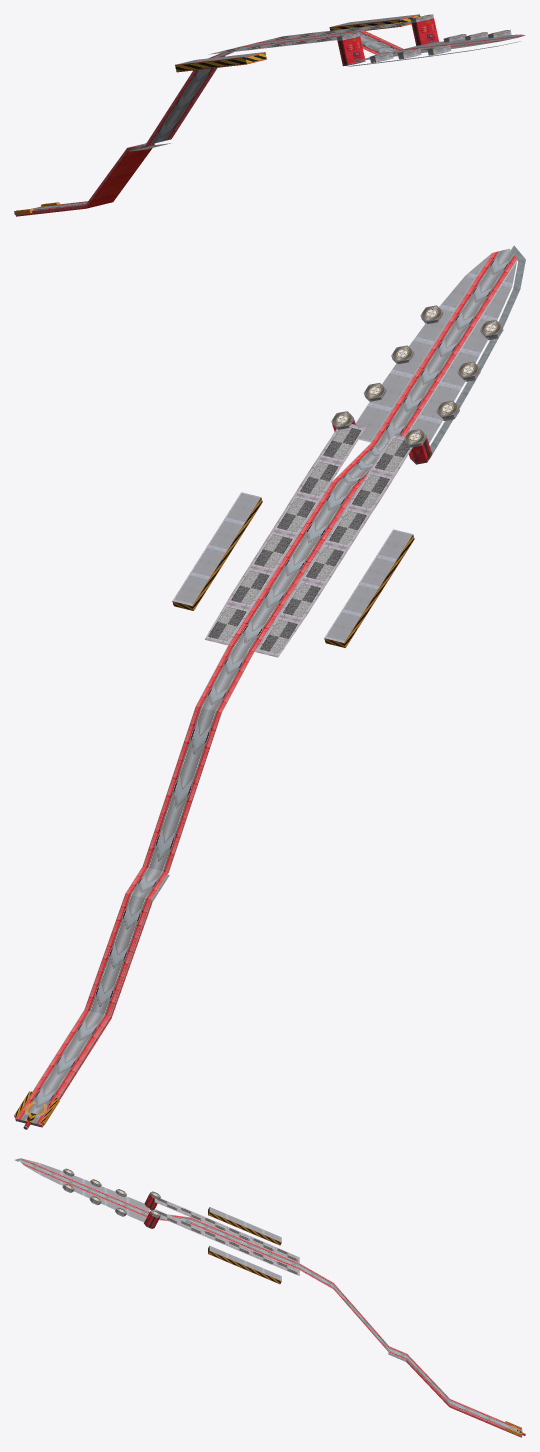
The model's file is S13_ONS_22.OBJ.
3 views of the same model, one above another, from view 1: azimuth 30°, elevation 25°; view 2: azimuth 150°, elevation 25°; view 3: azimuth 270°, elevation 25° (orthographic). The views are drawn at different scales.
Parts seen in each view (by area): view 1: s13_ons_22_5, s13_ons_22_0, s13_ons_22_1, s13_ons_22_11, s13_ons_22_6, s13_ons_22_7, s13_ons_22_13, s13_ons_22_9, s13_ons_22_12, s13_ons_22_8, s13_ons_22_10; view 2: s13_ons_22_5, s13_ons_22_7, s13_ons_22_13, s13_ons_22_12, s13_ons_22_9, s13_ons_22_10, s13_ons_22_1, s13_ons_22_8, s13_ons_22_6; view 3: s13_ons_22_5, s13_ons_22_7, s13_ons_22_13, s13_ons_22_12, s13_ons_22_9, s13_ons_22_1, s13_ons_22_6, s13_ons_22_10.
Part boxes in pixels (box(x1,y1,x2,y2)): s13_ons_22_5: box(15, 30, 403, 216); s13_ons_22_0: box(86, 148, 152, 208); s13_ons_22_1: box(16, 14, 420, 210); s13_ons_22_11: box(337, 18, 438, 66); s13_ons_22_6: box(14, 14, 511, 214); s13_ons_22_7: box(208, 21, 411, 54); s13_ons_22_13: box(358, 34, 524, 60); s13_ons_22_9: box(176, 14, 418, 64); s13_ons_22_12: box(392, 35, 524, 53); s13_ons_22_8: box(130, 41, 520, 151); s13_ons_22_10: box(338, 14, 508, 56); s13_ons_22_5: box(15, 442, 384, 1126); s13_ons_22_7: box(204, 424, 412, 657); s13_ons_22_13: box(355, 253, 517, 443); s13_ons_22_12: box(371, 248, 517, 445); s13_ons_22_9: box(172, 492, 412, 642); s13_ons_22_10: box(331, 305, 501, 444); s13_ons_22_1: box(14, 497, 414, 1122); s13_ons_22_8: box(152, 245, 525, 901); s13_ons_22_6: box(14, 312, 503, 1125); s13_ons_22_5: box(159, 1214, 522, 1437); s13_ons_22_7: box(154, 1198, 299, 1275); s13_ons_22_13: box(25, 1159, 149, 1222); s13_ons_22_12: box(19, 1159, 149, 1217); s13_ons_22_9: box(209, 1207, 281, 1280); s13_ons_22_1: box(208, 1207, 522, 1435); s13_ons_22_6: box(62, 1170, 521, 1436); s13_ons_22_10: box(64, 1168, 160, 1216).
Bounding box in the file's own units: 520 × 1526 × 2565.
Materials: 12 (12 with a texture image).
